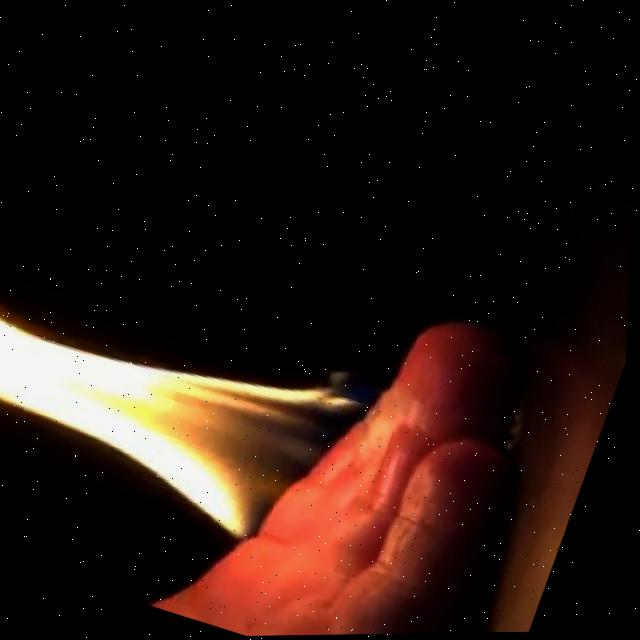Fire: (0, 252, 386, 577)
